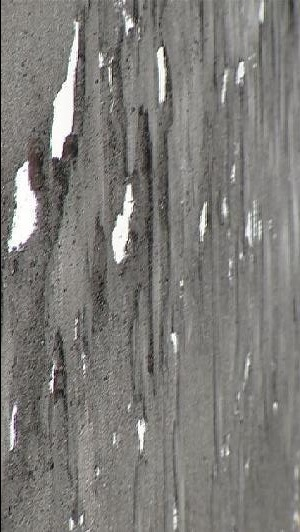pothole: (49, 14, 91, 204), (4, 149, 48, 257), (109, 181, 138, 269), (154, 41, 176, 130), (48, 323, 69, 409), (155, 131, 172, 231), (130, 107, 151, 183)
